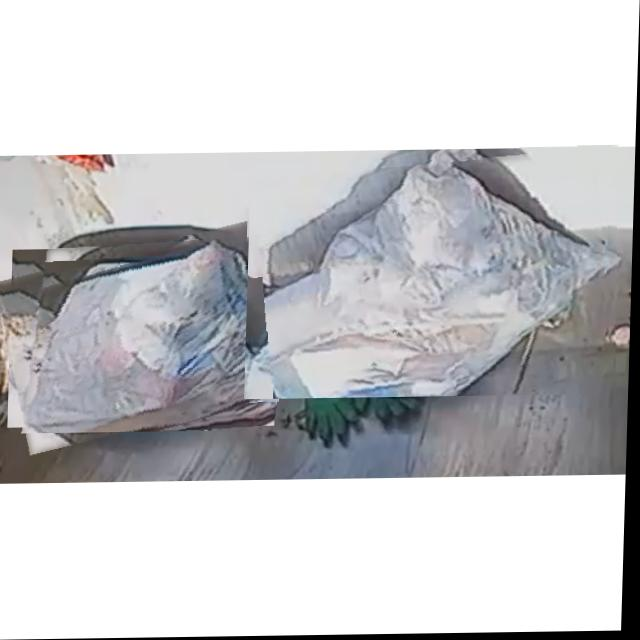other_trashbag: (249, 161, 608, 398), (25, 238, 291, 433)
